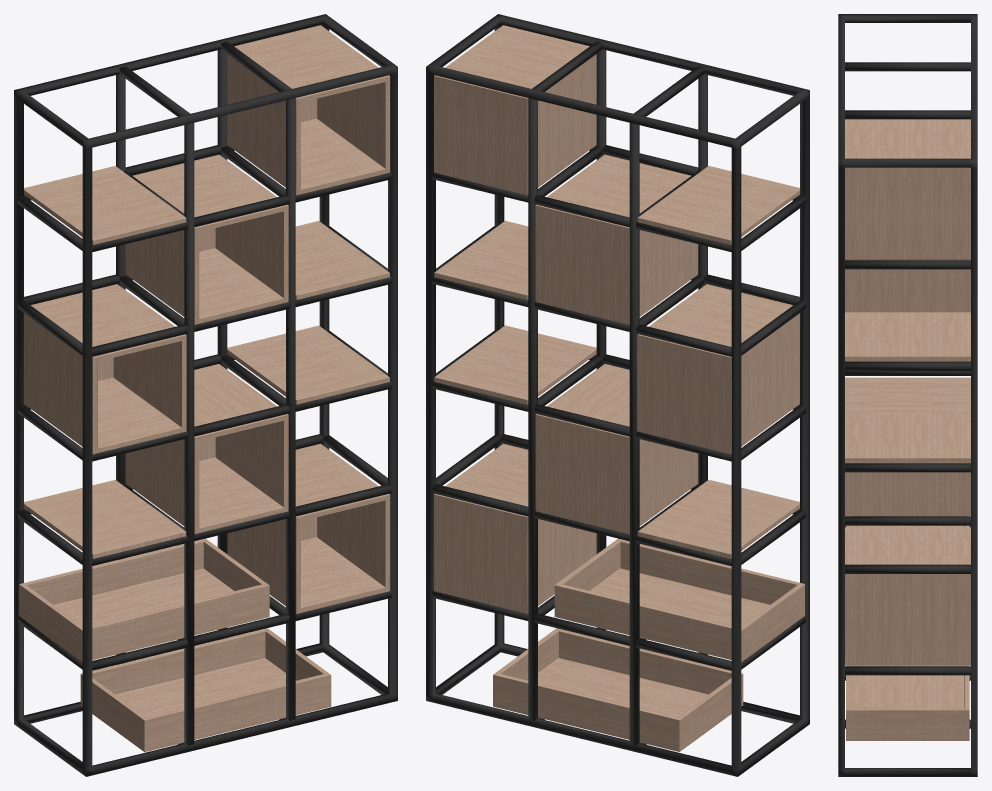
File: modern_modular_shelve.glb
The picture shows the model from 3 angles, left to right: view 1: azimuth 30°, elevation 25°; view 2: azimuth 150°, elevation 25°; view 3: azimuth 270°, elevation 25°; orthographic projection. The views are drawn at different scales.
Parts seen in each view (by area): view 1: shelf_wood, tall_industrial_shelving; view 2: shelf_wood, tall_industrial_shelving; view 3: shelf_wood, tall_industrial_shelving.
Boxes of the visible parts, <box> form: shelf_wood: <box>19,25,390,752</box>; tall_industrial_shelving: <box>14,14,397,776</box>; shelf_wood: <box>434,25,804,751</box>; tall_industrial_shelving: <box>426,14,809,776</box>; shelf_wood: <box>845,119,970,740</box>; tall_industrial_shelving: <box>838,14,977,776</box>.
Bounding box in the file's own units: 1.02 × 1.98 × 0.4064.
Materials: 2 (1 with a texture image).
